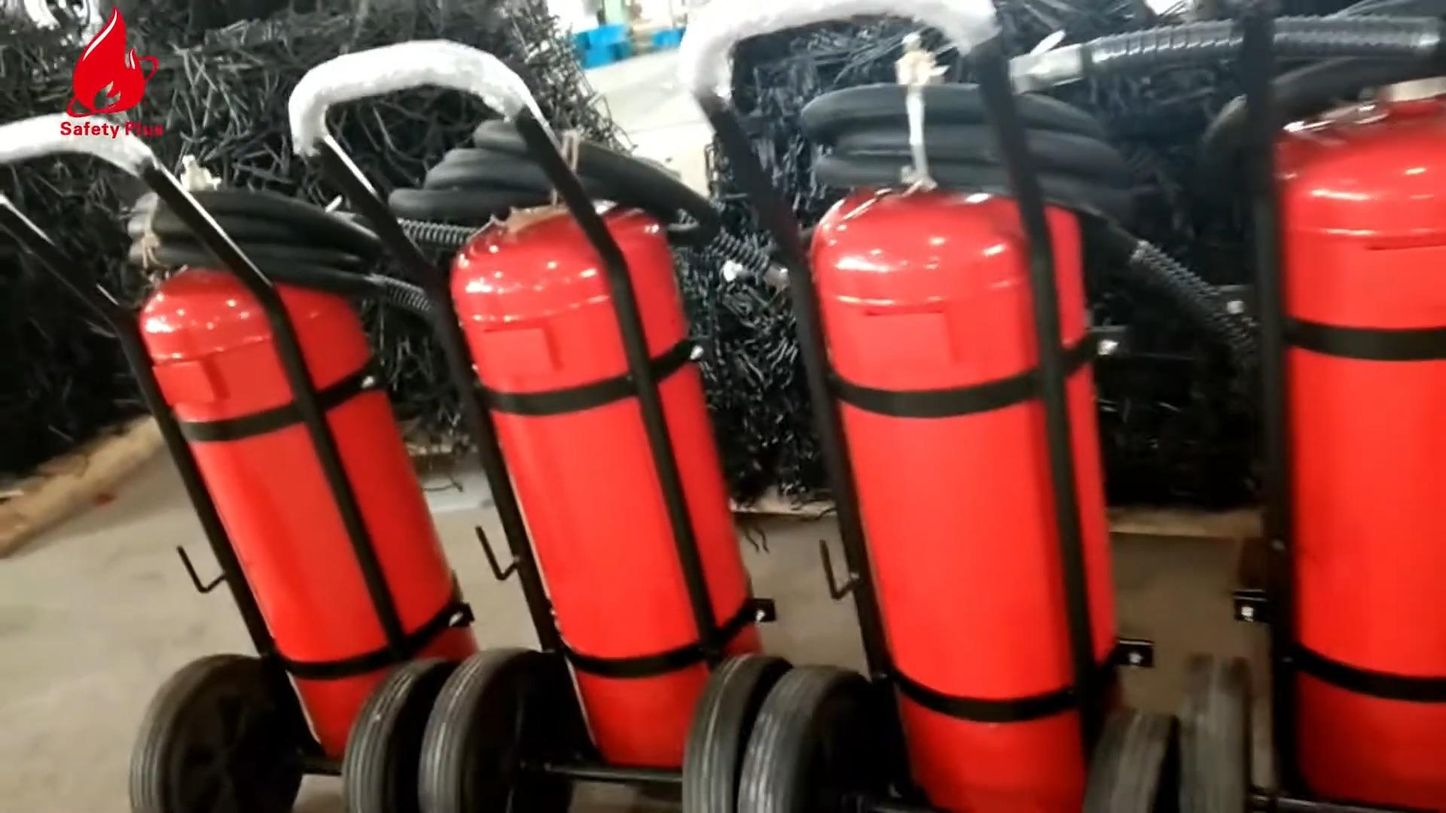FireExtinguisher: (778, 113, 1162, 813), (61, 202, 485, 776), (420, 177, 787, 813), (1213, 66, 1446, 813)
